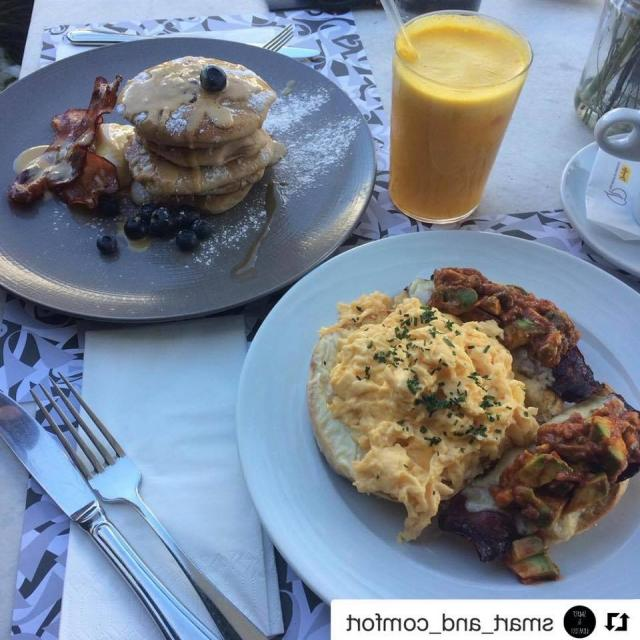Omelette: (304, 292, 533, 506)
Pancakes: (116, 57, 295, 219)
